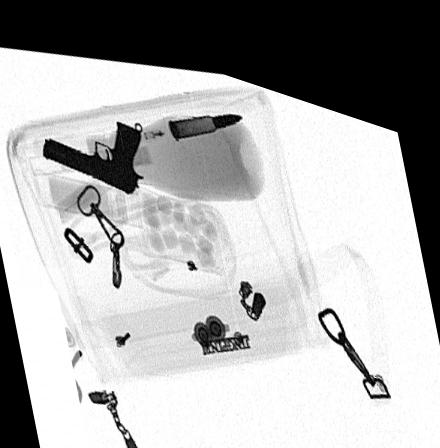Bullet: (169, 97, 243, 128)
Gun: (41, 112, 145, 187)
